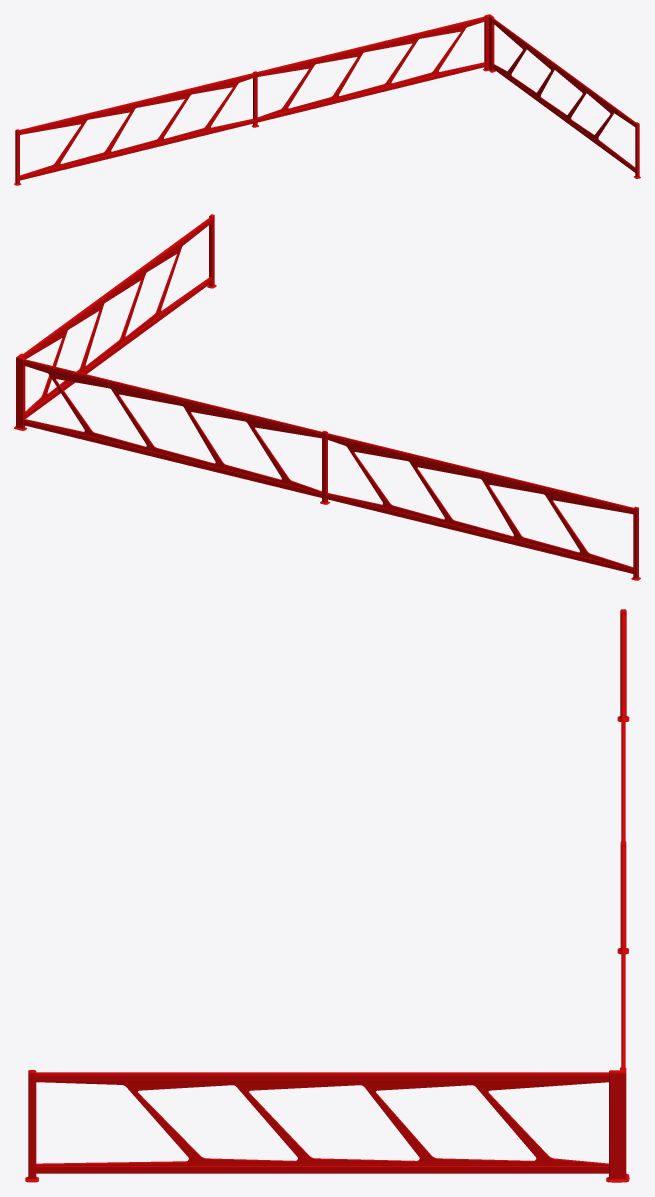
The model's file is Perilla_1.fbx.
3 views of the same model, one above another, from view 1: azimuth 30°, elevation 25°; view 2: azimuth 150°, elevation 25°; view 3: azimuth 270°, elevation 25° (orthographic). The views are drawn at different scales.
Parts seen in each view (by area): view 1: L23:polySurface1730; view 2: L23:polySurface1730; view 3: L23:polySurface1730.
Boxes of the visible parts, bbox=[...] form: L23:polySurface1730: bbox=[14, 14, 640, 185]; L23:polySurface1730: bbox=[14, 214, 640, 580]; L23:polySurface1730: bbox=[25, 609, 629, 1182].
Bounding box in the file's own units: 1018 × 111 × 558.
